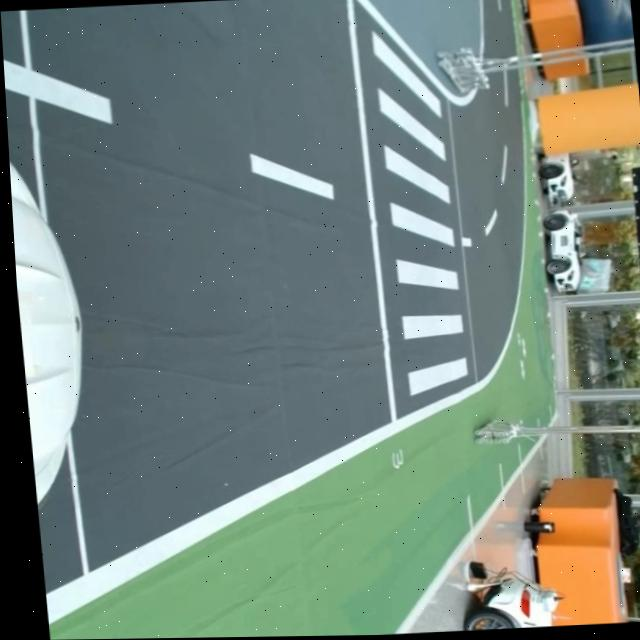traffic-light: (625, 163, 640, 299)
